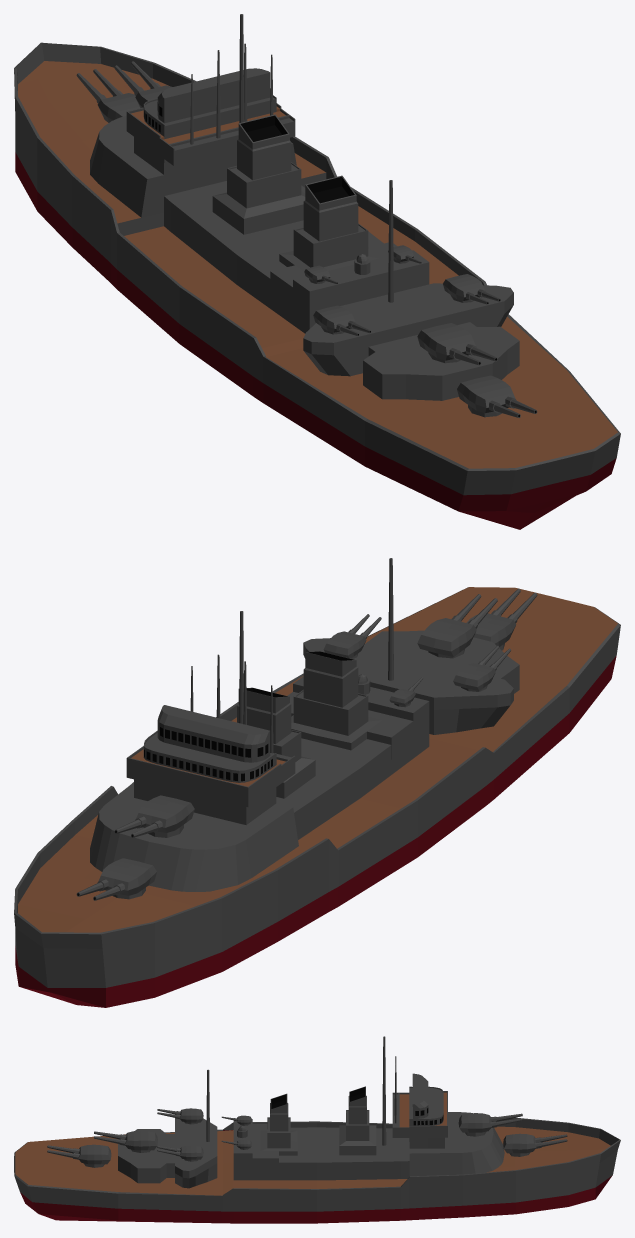
The model's file is destroyer.fbx.
3 renders of one model, top to bottom at view 1: azimuth 30°, elevation 25°; view 2: azimuth 150°, elevation 25°; view 3: azimuth 270°, elevation 25°, orthographic. The views are drawn at different scales.
Parts seen in each view (by area): view 1: Destroyer, działko6, działko3, działko2, działko5, działko4, działko1; view 2: Destroyer, działko3, działko1, działko2, działko6, działko5, działko4; view 3: Destroyer, działko1, działko6, działko2, działko3, działko4, działko5.
Boxes of the visible parts, left/top/right/bottom form: Destroyer: left=14, top=14, right=620, bottom=529; działko6: left=457, top=375, right=537, bottom=417; działko3: left=417, top=323, right=497, bottom=365; działko2: left=76, top=69, right=139, bottom=122; działko5: left=313, top=305, right=371, bottom=336; działko4: left=443, top=274, right=500, bottom=304; działko1: left=114, top=61, right=172, bottom=108; Destroyer: left=14, top=558, right=620, bottom=1007; działko3: left=417, top=594, right=497, bottom=658; działko1: left=114, top=795, right=194, bottom=837; działko2: left=76, top=858, right=156, bottom=900; działko6: left=466, top=588, right=537, bottom=650; działko5: left=453, top=645, right=510, bottom=691; działko4: left=323, top=614, right=381, bottom=658; Destroyer: left=14, top=1036, right=620, bottom=1223; działko1: left=458, top=1113, right=522, bottom=1136; działko6: left=47, top=1144, right=111, bottom=1167; działko2: left=503, top=1133, right=567, bottom=1156; działko3: left=94, top=1130, right=157, bottom=1152; działko4: left=157, top=1145, right=203, bottom=1161; działko5: left=157, top=1108, right=203, bottom=1124.
Size of the model in its own units: 80 by 100 by 300.
